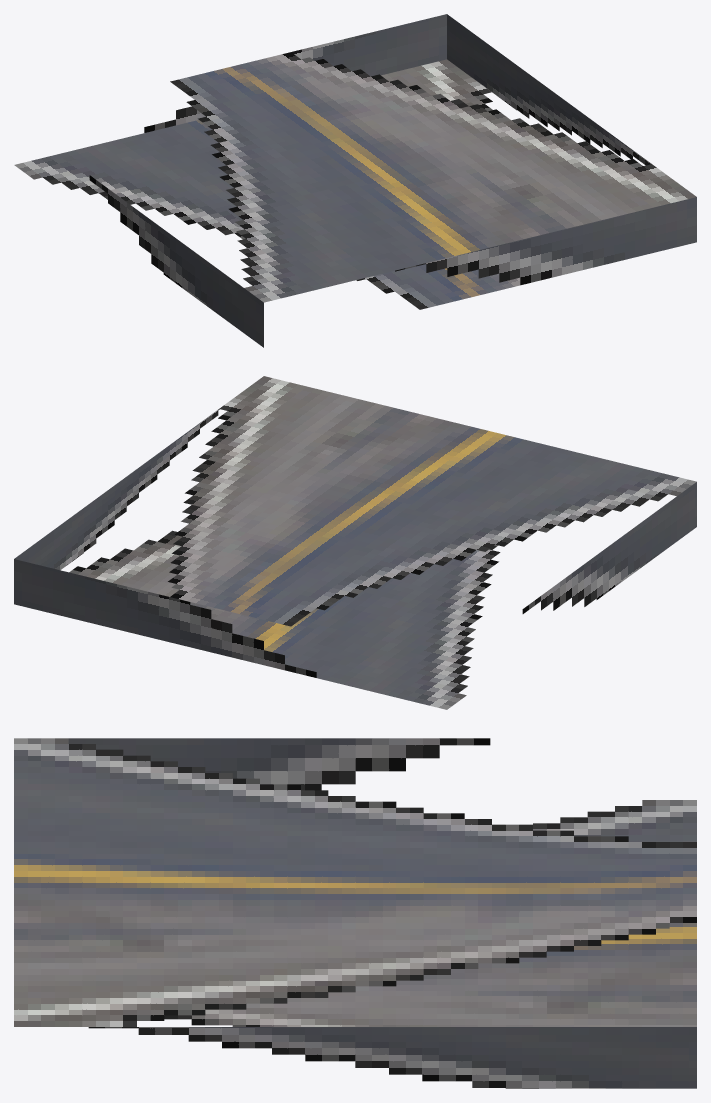
File: road.obj
The picture shows the model from 3 angles, top to bottom: view 1: azimuth 30°, elevation 25°; view 2: azimuth 150°, elevation 25°; view 3: azimuth 270°, elevation 25°; orthographic projection. The views are drawn at different scales.
Visible parts, largest first — view 1: Mesh; view 2: Mesh; view 3: Mesh.
Boxes of the visible parts, bbox=[...] form: Mesh: bbox=[14, 14, 696, 347]; Mesh: bbox=[14, 376, 696, 709]; Mesh: bbox=[14, 738, 696, 1088].
Size of the model in its own units: 1 by 0.1 by 1.
